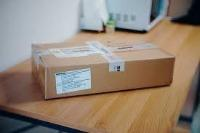undamaged: (28, 34, 177, 101)
